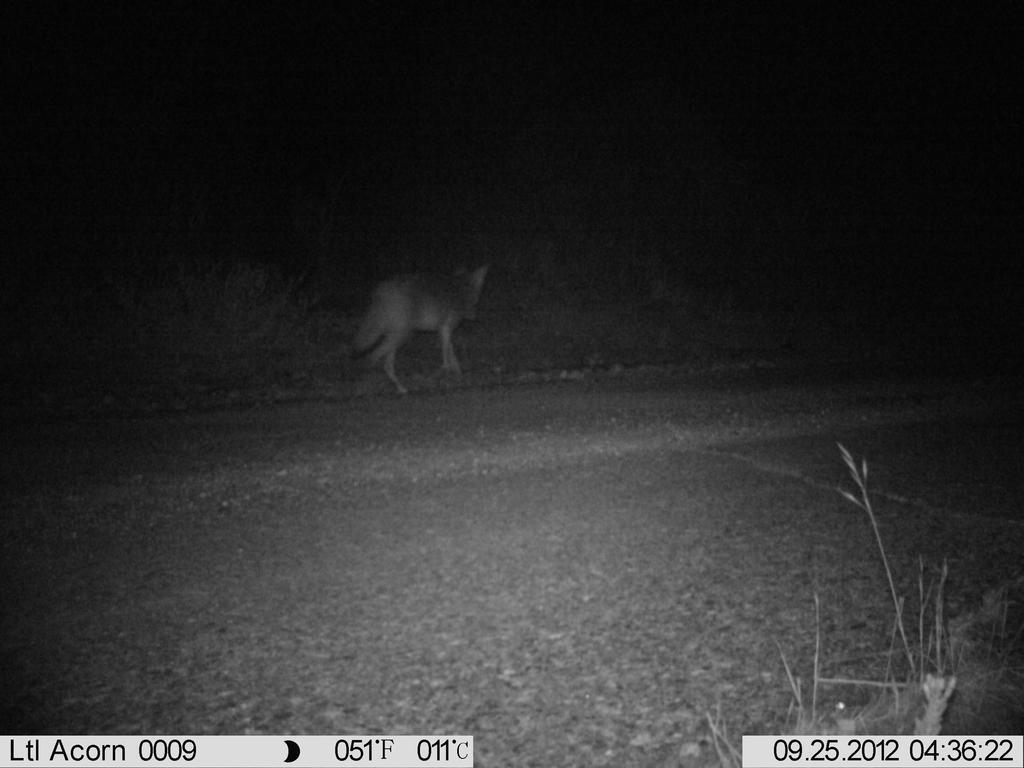coyote: (341, 251, 527, 407)
